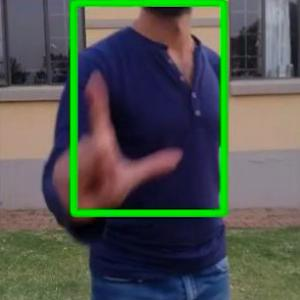land_hand: (52, 62, 184, 222)
